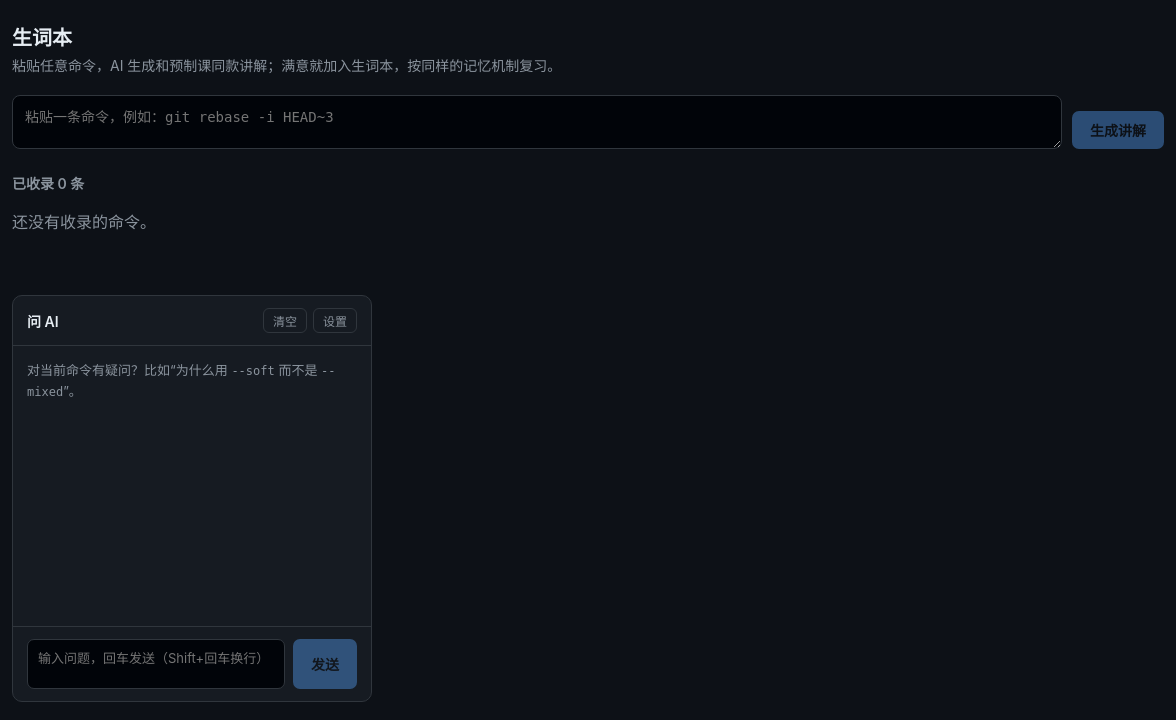
VocabMode › generates a card from a pasted command and saves it to the 生词本
The width and height of the screenshot is (1176, 720).
Type "git rebase -i HEAD~3" into the text box with placeholder "粘贴一条命令，例如：git rebase -i HEAD~3".
click(537, 122); type("git rebase -i HEAD~3")  # box [12,95,1062,149]
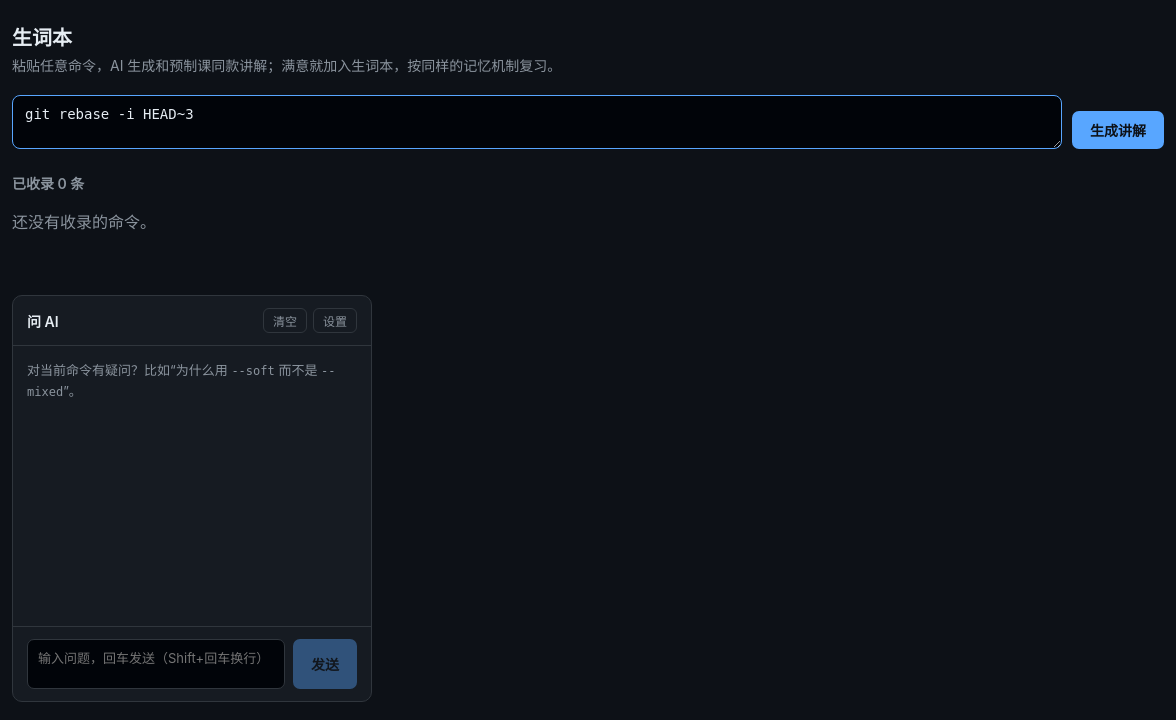
Click the button "生成讲解".
click(1118, 130)  # box [1072,111,1164,149]
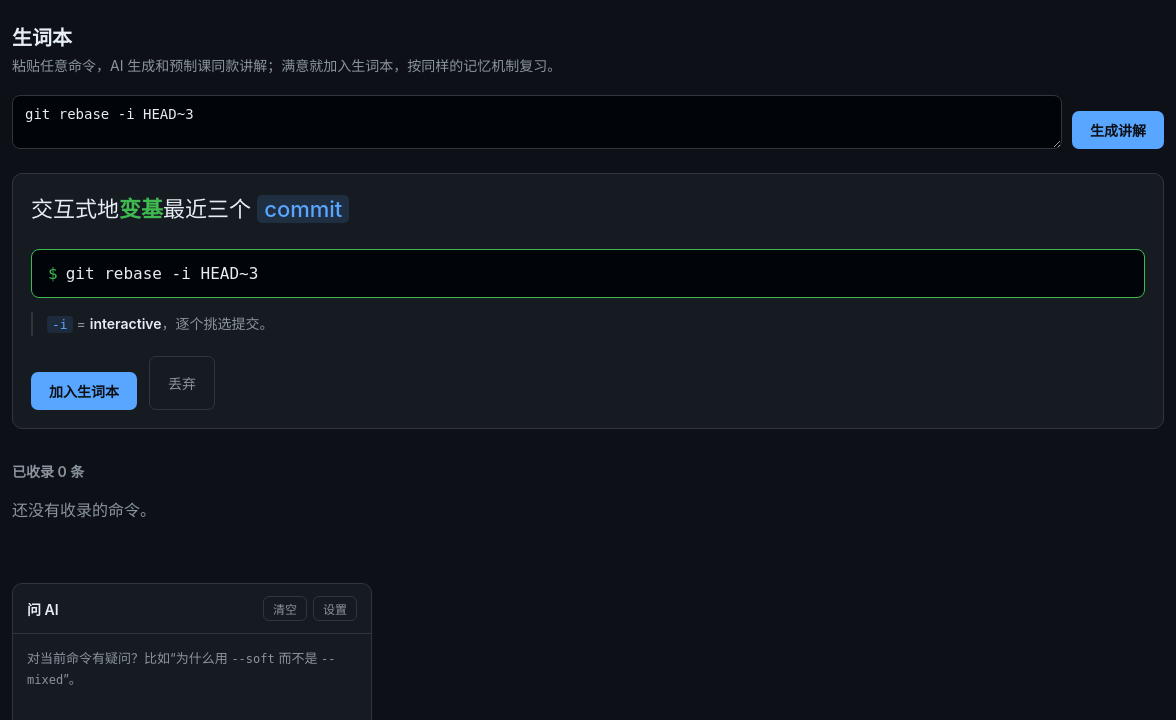
Expected: the button "加入生词本" is shown
Expected: the text "git rebase -i HEAD~3" is shown, [66,264,258,283]
Click the button "加入生词本".
click(84, 391)  # box [31,372,137,410]
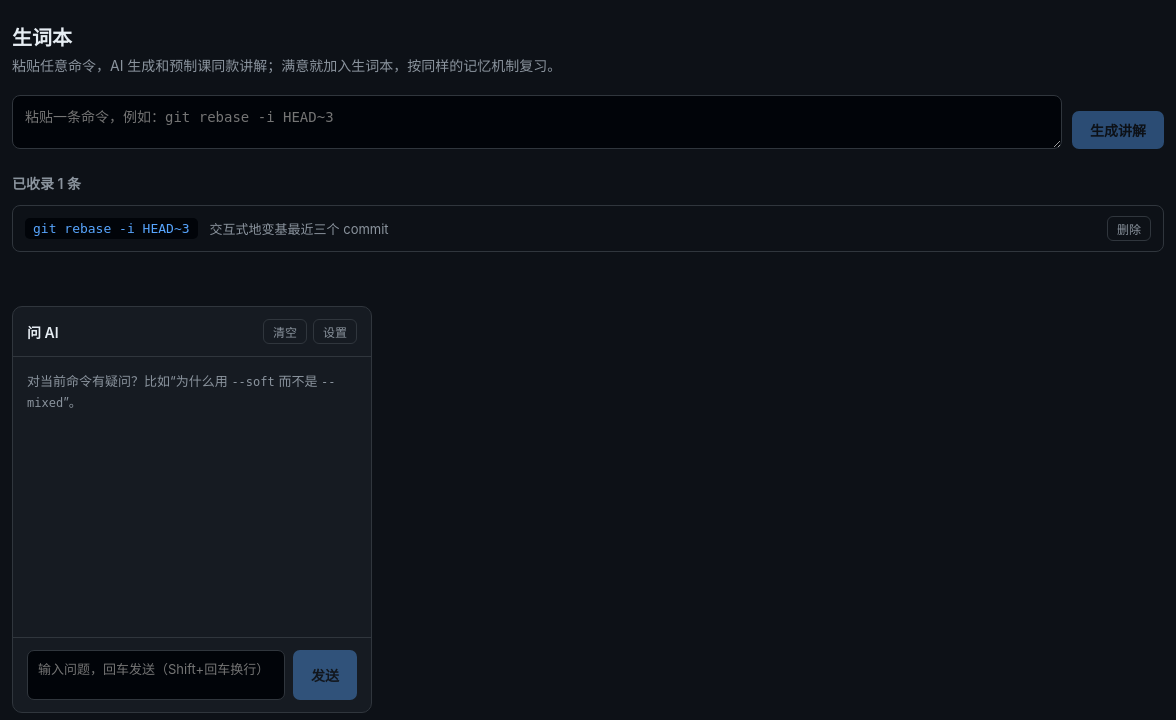
Expected: the heading "已收录 1 条" is shown, [12,175,81,192]
